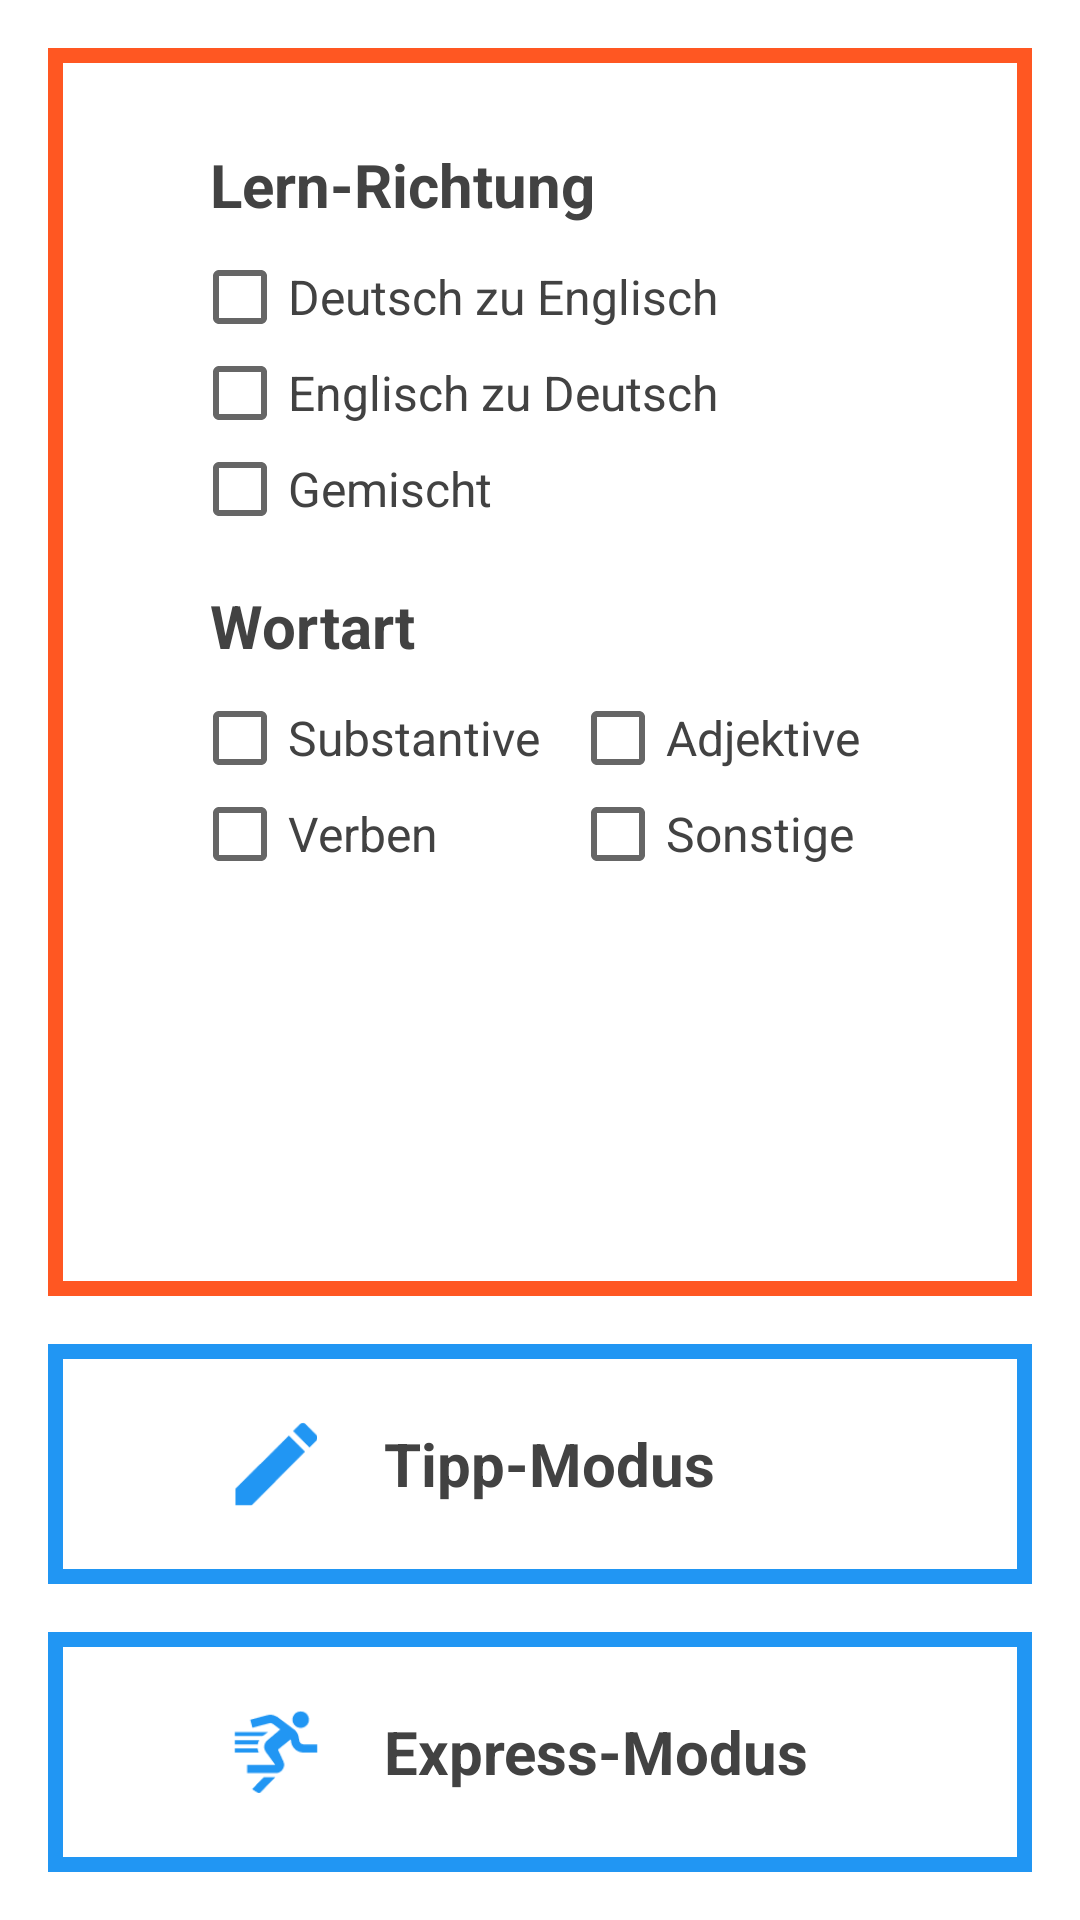

Named icons in this screenshot (1080*1920) and their centers, (x,y):
text input: (276,1464)
